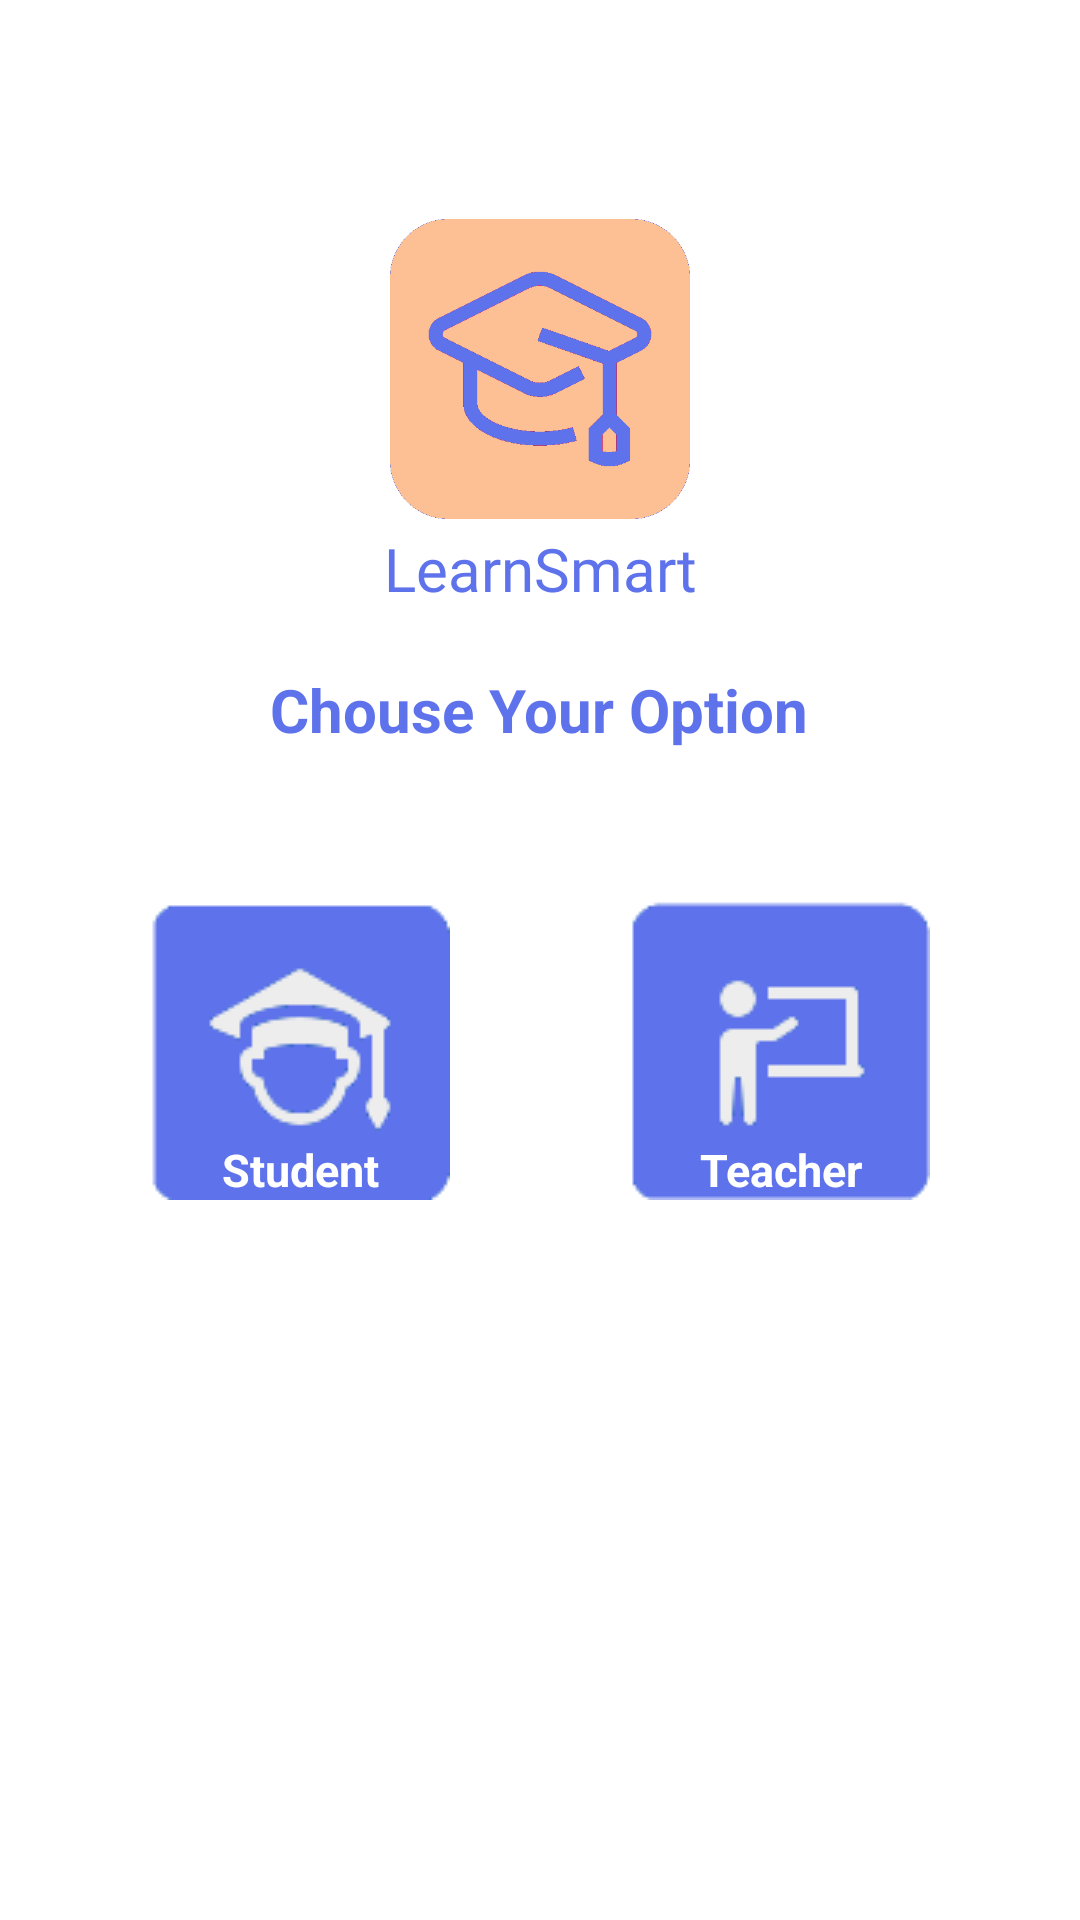

Named icons in this screenshot (1080px×1920px) and their centers, [x,y]:
appicon: [540,369]
